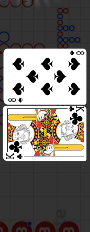8C: (68, 50, 85, 57)
KC: (4, 151, 26, 161)
